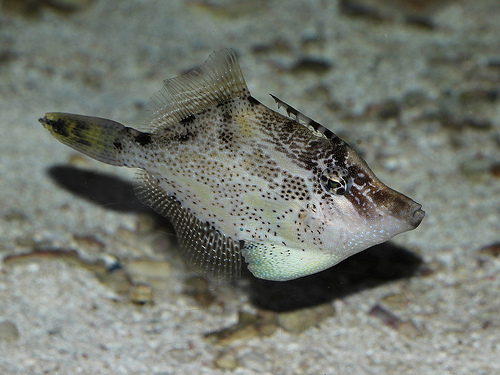fish: (38, 47, 425, 282)
